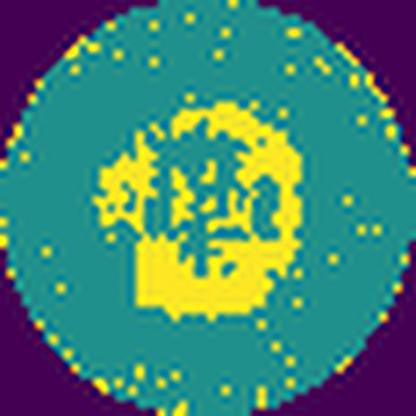Donut: (90, 95, 312, 326)
